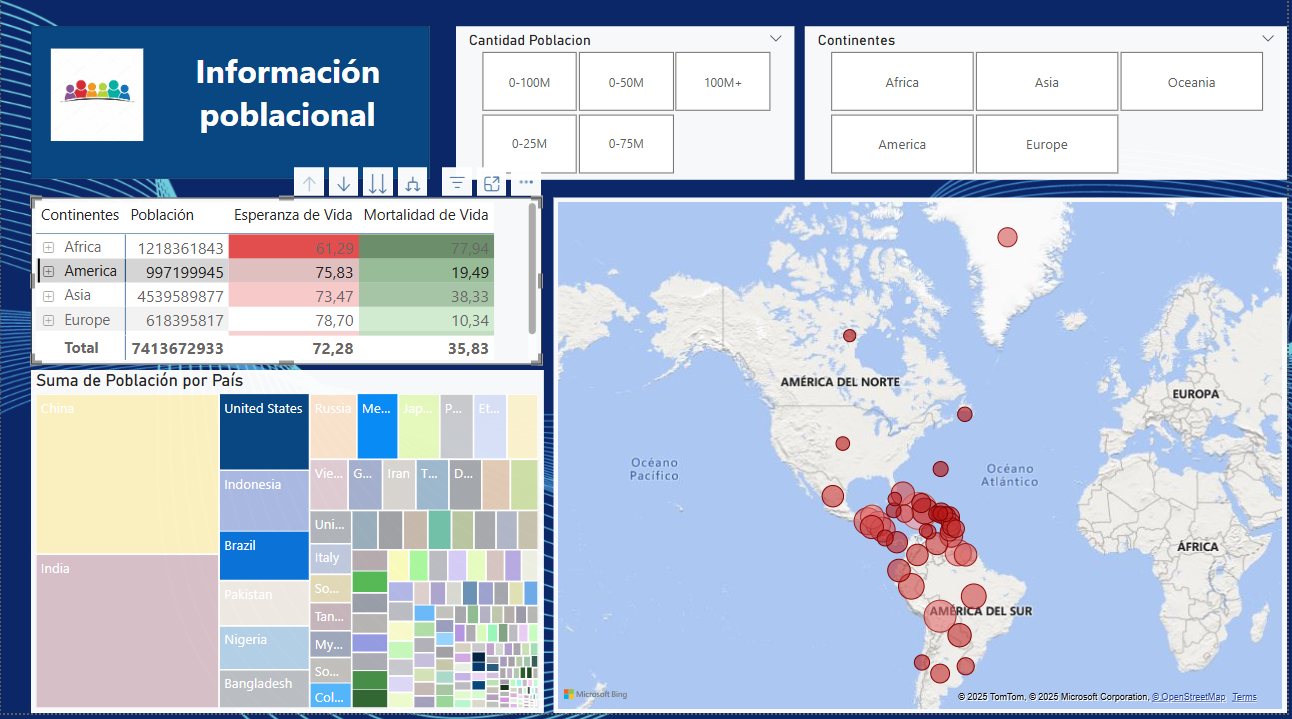

Layout of this report page (visuals, bound fields, positions):
{"tool":"powerbi","page":{"name":"Reporte 2","canvas":[1280,720],"ordinal":1},"visuals":[{"type":"shape","box":[51,36.1,376.9,153],"z":0},{"type":"pivotTable","fields":{"Values":["Sum(Population.Población)","Sum(Esperanza de Vida.Esperanza de Vida)","Avg(Mortalidad Infantil.Mortalidad de Vida)"],"Rows":["Countries.Jeraquia: Continente Y Pais.Continentes","Countries.Jeraquia: Continente Y Pais.País"]},"box":[52.6,206.6,509.2,167.1],"z":1000},{"type":"treemap","fields":{"Group":["Countries.País"],"Values":["Sum(Population.Población)"]},"box":[51,378.2,510,342.1],"z":2000},{"type":"slicer","fields":{"Values":["Population.Cantidad Poblacion"]},"box":[452.8,36.1,337.1,153],"z":3000},{"type":"slicer","fields":{"Values":["Countries.Continentes"]},"box":[799.9,36.1,480.2,153],"z":4000},{"type":"map","fields":{"Size":["Avg(Mortalidad Infantil.Mortalidad de Vida)"],"Category":["Countries.Jeraquia: Continente Y Pais.Continentes","Countries.Jeraquia: Continente Y Pais.País"]},"box":[576.7,206.7,703.3,513.3],"z":5000},{"type":"image","box":[0,51,220.2,113.2],"z":6000},{"type":"textbox","box":[205.3,83.3,199,56],"z":7000}]}

Visuals, with their boxes on the page's 1280x720 design canvas (x1, y1, x2, y2). These are canvas units, not pixel positions in the 1292x719 screenshot, which may show the page scaled, cropped or inside an application window:
shape: (51, 36, 428, 189)
pivotTable - Sum(Population.Población) x Sum(Esperanza de Vida.Esperanza de Vida): (53, 207, 562, 374)
treemap - Countries.País x Sum(Population.Población): (51, 378, 561, 720)
slicer - Population.Cantidad Poblacion: (453, 36, 790, 189)
slicer - Countries.Continentes: (800, 36, 1280, 189)
map - Avg(Mortalidad Infantil.Mortalidad de Vida) x Countries.Jeraquia: Continente Y Pais.Continentes: (577, 207, 1280, 720)
image: (0, 51, 220, 164)
textbox: (205, 83, 404, 139)
